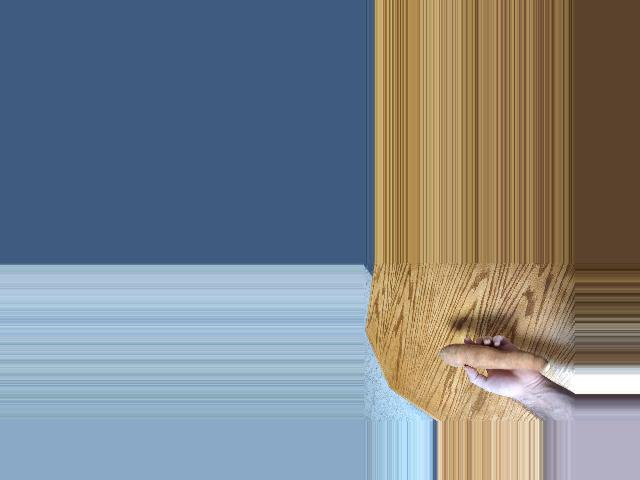sweet_potato: (435, 336, 545, 369)
